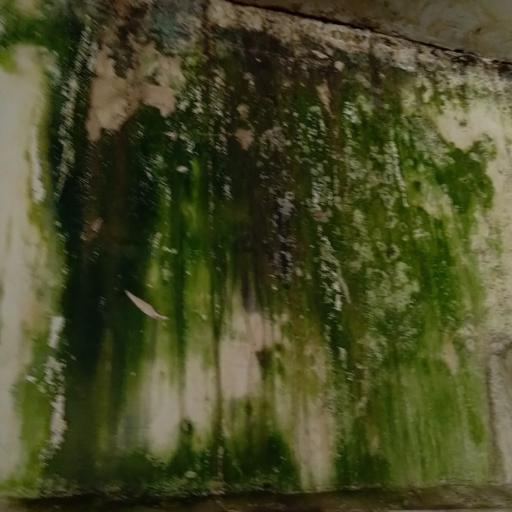algae: (24, 14, 511, 489)
